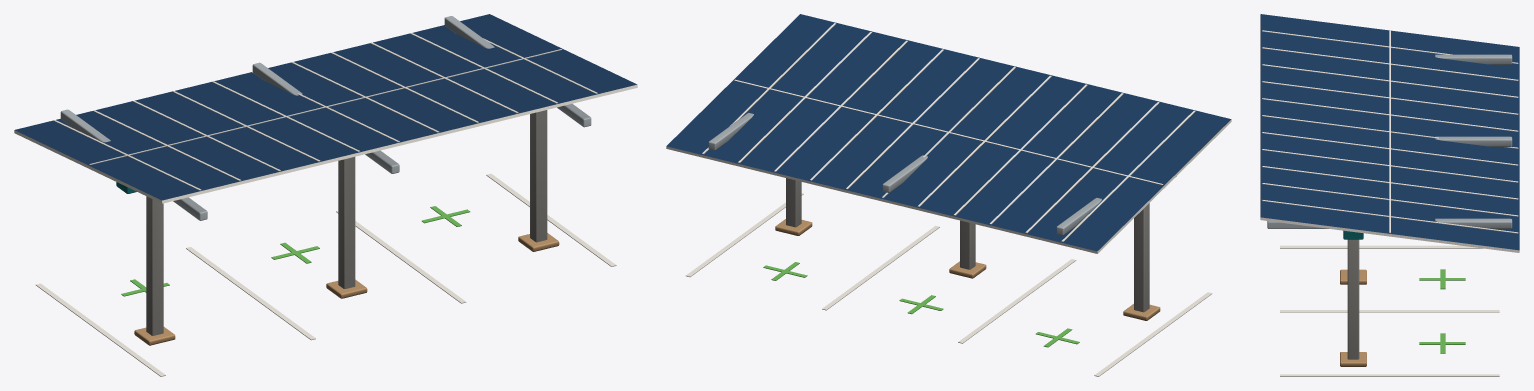
File: solar_canopy.fbx
The picture shows the model from 3 angles, left to right: view 1: azimuth 30°, elevation 25°; view 2: azimuth 150°, elevation 25°; view 3: azimuth 270°, elevation 25°; orthographic projection. The views are drawn at different scales.
Parts seen in each view (by area): view 1: solar_canopy; view 2: solar_canopy; view 3: solar_canopy.
Boxes of the visible parts, x1,y1,x2,y2 form: solar_canopy: [14, 14, 637, 376]; solar_canopy: [666, 14, 1231, 376]; solar_canopy: [1260, 14, 1519, 376].
Bounding box in the file's own units: 11.4 × 4.29 × 6.15.
